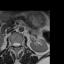CCS_normal: (15, 40, 17, 49)
LFS_normal: (20, 40, 22, 48)
LLS_normal: (17, 40, 20, 48)
RFS_normal: (10, 40, 13, 47)
RLS_normal: (13, 40, 15, 49)
